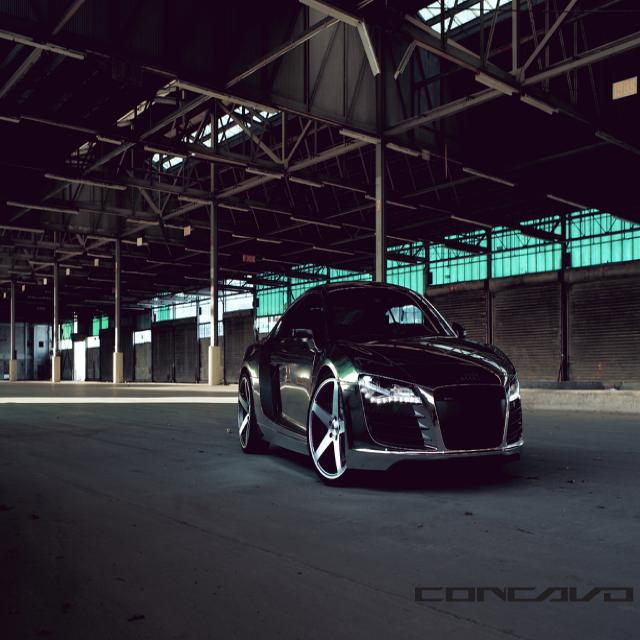car: (240, 275, 526, 487)
